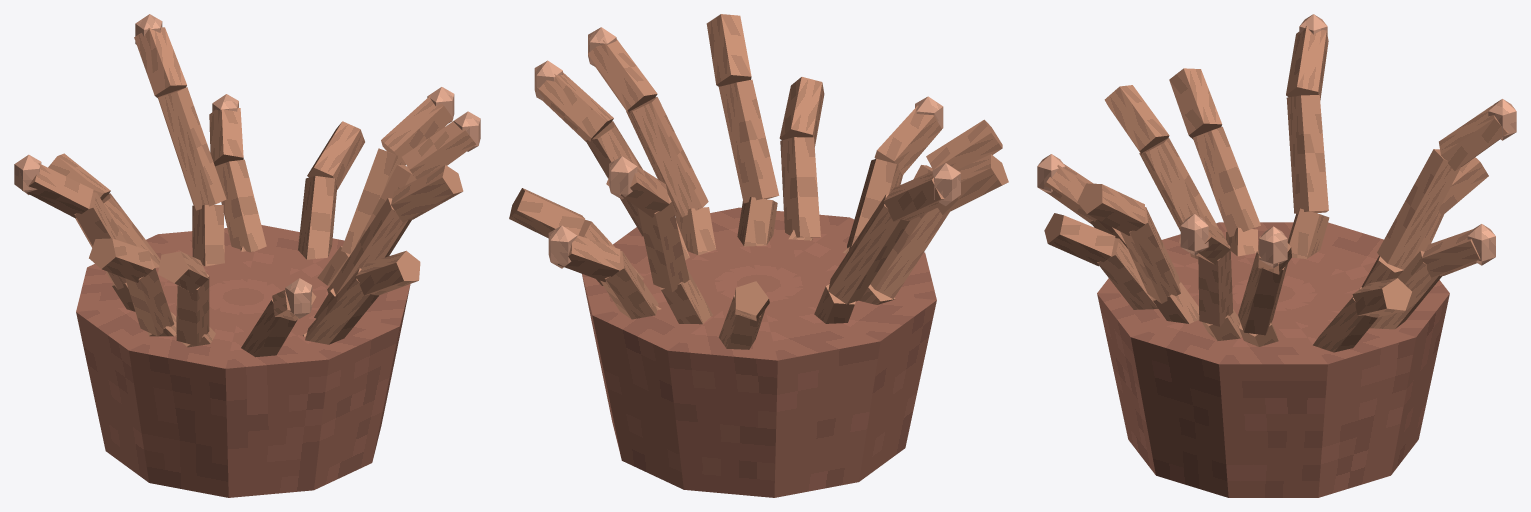
The model's file is f_sea_anemone.glb.
3 views of the same model, side by side, from view 1: azimuth 30°, elevation 25°; view 2: azimuth 150°, elevation 25°; view 3: azimuth 270°, elevation 25° (orthographic). The views are drawn at different scales.
Visible parts, largest first — view 1: block_polyp-body, block_tide-tentacle-2 (×12), block_tide-tentacle-3 (×12), block_tide-tentacle-1 (×2), block_colored-tentacle-tip (×3); view 2: block_polyp-body, block_tide-tentacle-2 (×10), block_tide-tentacle-3 (×12), block_tide-tentacle-1 (×4), block_colored-tentacle-tip (×4); view 3: block_polyp-body, block_tide-tentacle-2 (×10), block_tide-tentacle-3 (×11), block_tide-tentacle-1 (×5), block_colored-tentacle-tip (×5).
Part boxes in pixels (bbox=[...]): block_polyp-body: bbox=[76, 225, 410, 497]; block_tide-tentacle-2 (×12): bbox=[74, 87, 416, 357]; block_tide-tentacle-3 (×12): bbox=[22, 27, 476, 320]; block_tide-tentacle-1 (×2): bbox=[192, 205, 350, 285]; block_colored-tentacle-tip (×3): bbox=[14, 111, 480, 318]; block_polyp-body: bbox=[582, 207, 936, 497]; block_tide-tentacle-2 (×10): bbox=[585, 79, 949, 349]; block_tide-tentacle-3 (×12): bbox=[509, 14, 1008, 320]; block_tide-tentacle-1 (×4): bbox=[659, 197, 855, 324]; block_colored-tentacle-tip (×4): bbox=[534, 60, 960, 268]; block_polyp-body: bbox=[1097, 222, 1449, 497]; block_tide-tentacle-2 (×10): bbox=[1097, 94, 1460, 352]; block_tide-tentacle-3 (×11): bbox=[1044, 26, 1508, 317]; block_tide-tentacle-1 (×5): bbox=[1153, 208, 1403, 340]; block_colored-tentacle-tip (×5): bbox=[1037, 99, 1516, 267].
Bounding box in the file's own units: 0.4911 × 0.3825 × 0.4753.
1 material, 1 textured.
